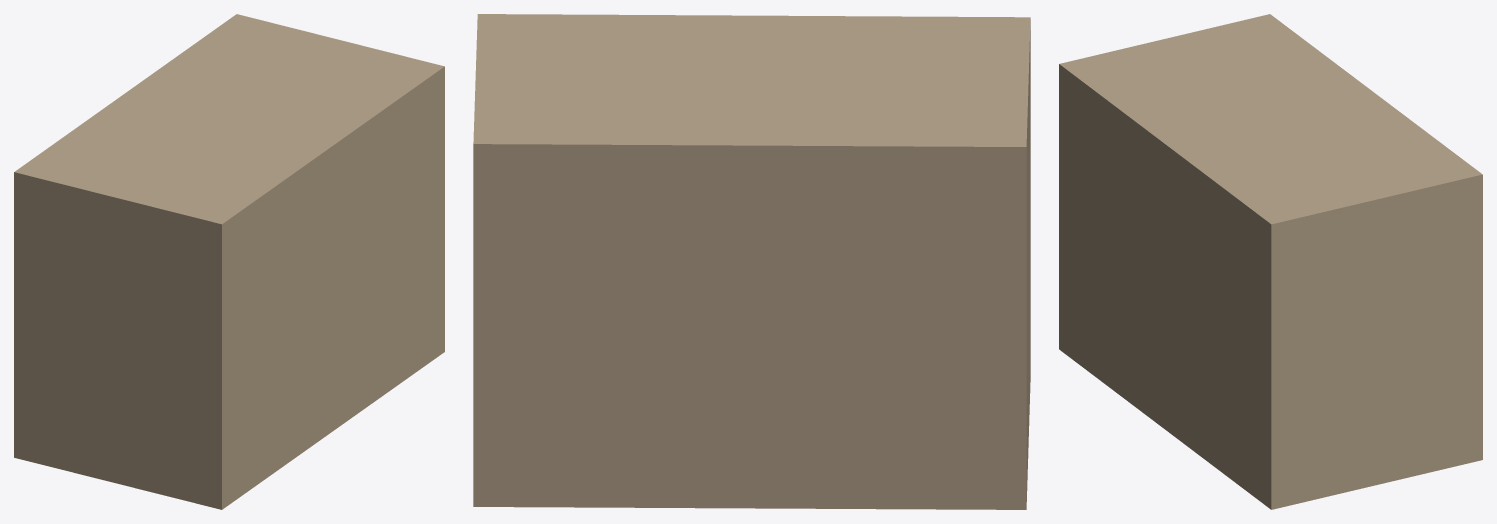
The model's file is bld_109034825.dae.
3 renders of one model, left to right at view 1: azimuth 30°, elevation 25°; view 2: azimuth 150°, elevation 25°; view 3: azimuth 270°, elevation 25°, orthographic. The views are drawn at different scales.
Parts seen in each view (by area): view 1: bld_109034825; view 2: bld_109034825; view 3: bld_109034825.
Part boxes in pixels (box(x1,y1,x2,y2)): bld_109034825: box(14, 14, 444, 509); bld_109034825: box(473, 14, 1030, 509); bld_109034825: box(1059, 14, 1482, 509).
Bounding box in the file's own units: 12.64 × 10.76 × 8.
